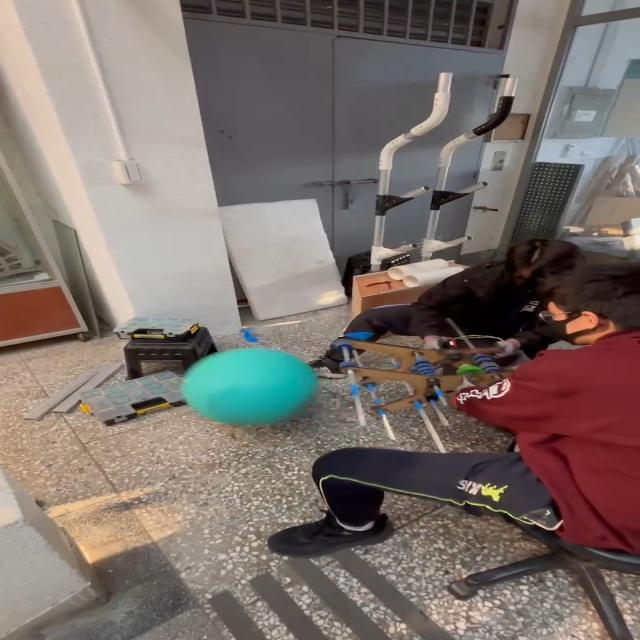ALGAE: (178, 347, 320, 428)
